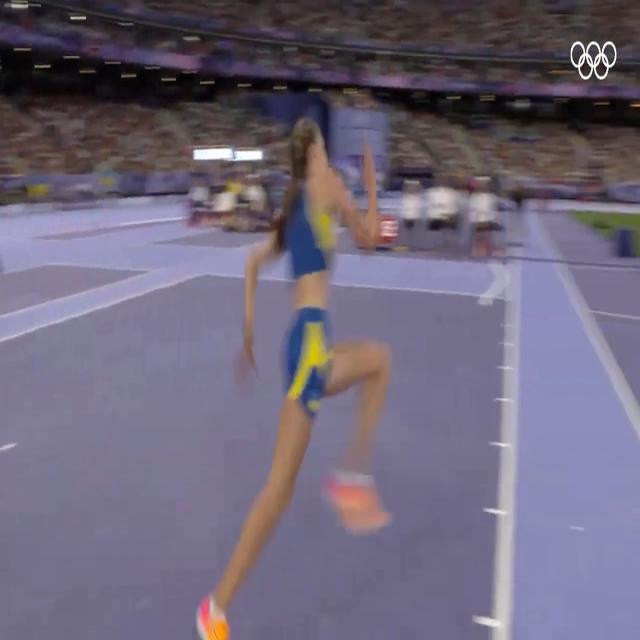run: (187, 115, 400, 640)
